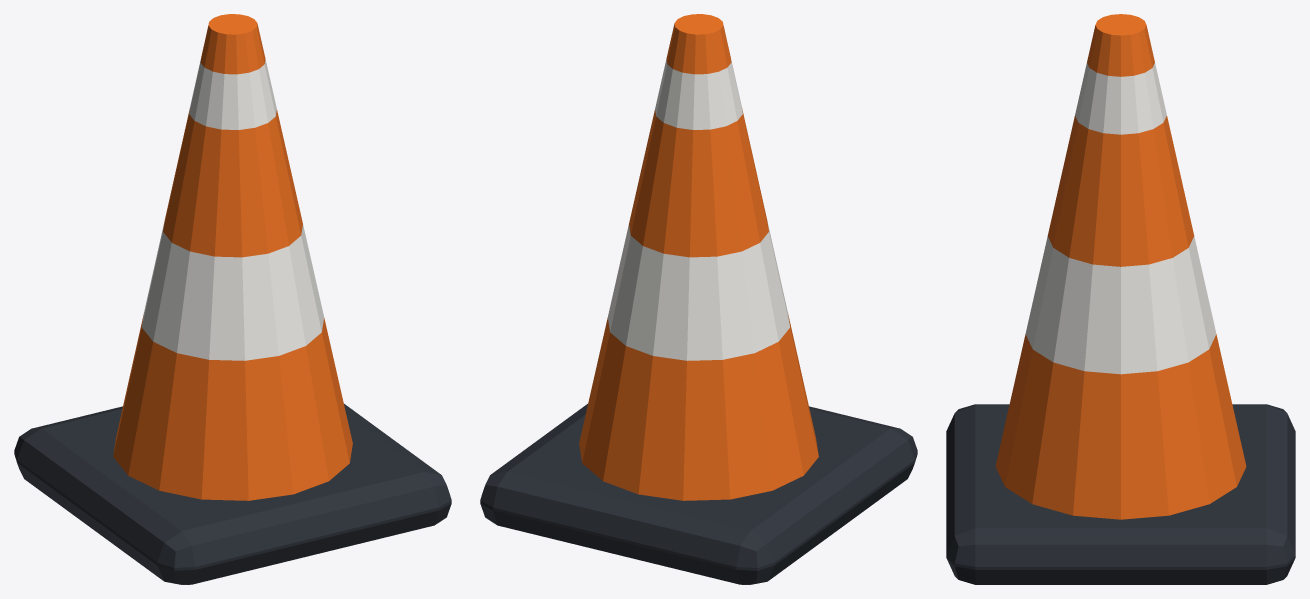
File: TrafficCone.fbx
The picture shows the model from 3 angles, left to right: view 1: azimuth 30°, elevation 25°; view 2: azimuth 150°, elevation 25°; view 3: azimuth 270°, elevation 25°; orthographic projection. The views are drawn at different scales.
Parts seen in each view (by area): view 1: Traffic Cone; view 2: Traffic Cone; view 3: Traffic Cone.
Part boxes in pixels (<box>): Traffic Cone: <box>14,14,451,584</box>; Traffic Cone: <box>480,14,917,584</box>; Traffic Cone: <box>946,14,1295,584</box>.
Bounding box in the file's own units: 42 × 66 × 42.
